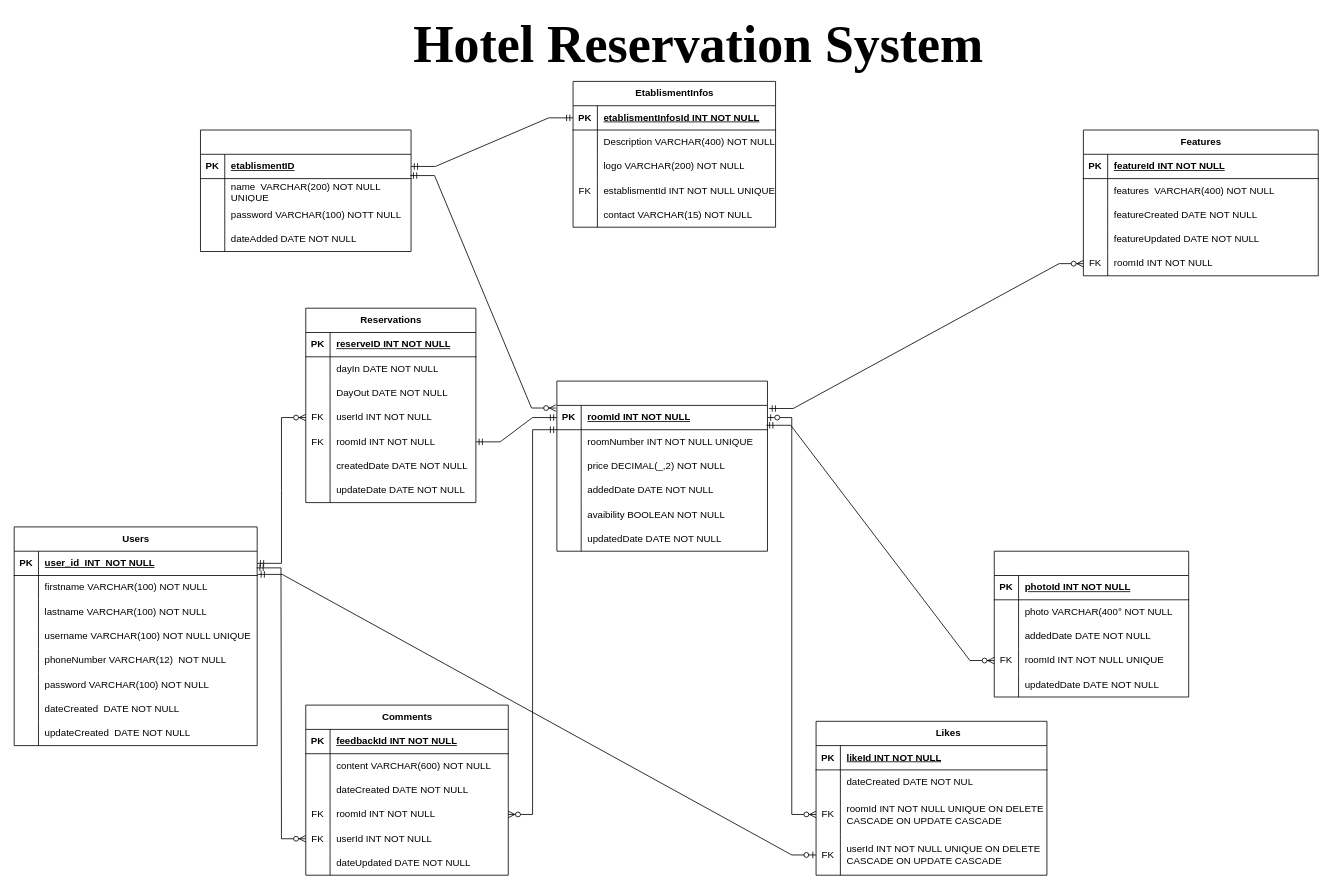
Image size: 1332x889. Some labels were removed from this diagram. Here are the shapes that lost their labels. From the top down, the box of each, then its label:
(200, 129, 411, 252): Establisments
(556, 380, 767, 551): Rooms
(993, 550, 1189, 697): Photos
